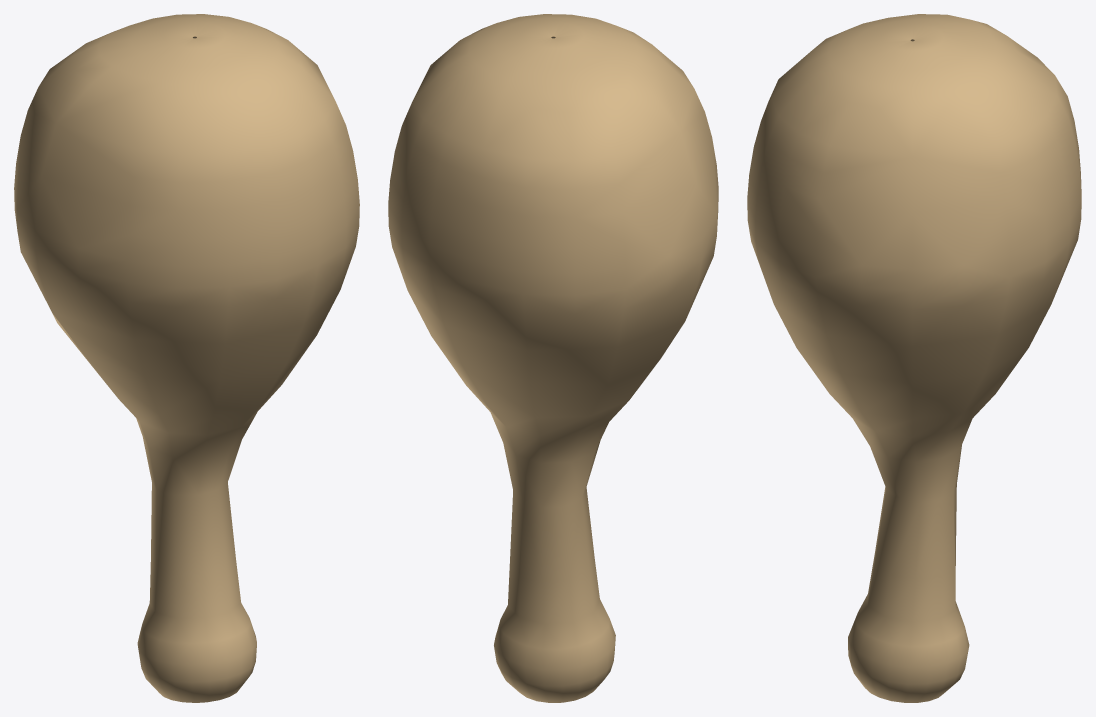
File: drumstick.fbx
The picture shows the model from 3 angles, left to right: view 1: azimuth 30°, elevation 25°; view 2: azimuth 150°, elevation 25°; view 3: azimuth 270°, elevation 25°; orthographic projection.
Parts seen in each view (by area): view 1: nurbsToPoly1; view 2: nurbsToPoly1; view 3: nurbsToPoly1.
Part boxes in pixels (x1,y1,x2,y2): nurbsToPoly1: [14, 14, 359, 702]; nurbsToPoly1: [388, 14, 718, 702]; nurbsToPoly1: [747, 14, 1081, 702].
Size of the model in its own units: 10.93 by 23.22 by 10.67.
